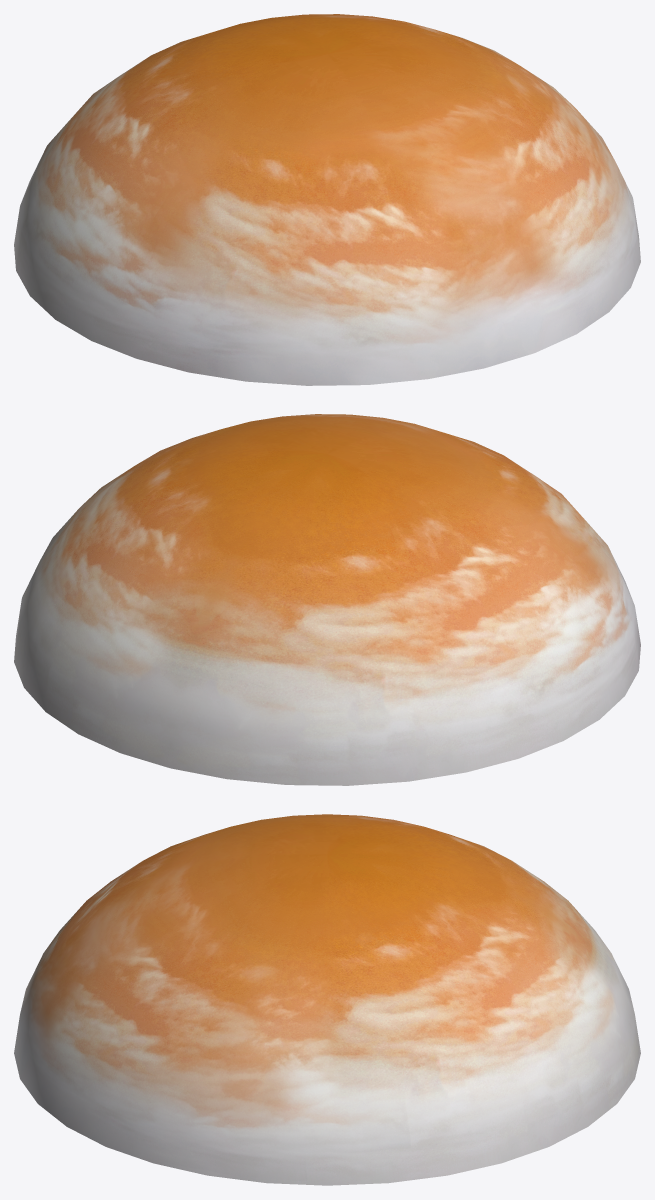
Rendered from Skydome.obj.
The picture shows the model from 3 angles, top to bottom: view 1: azimuth 30°, elevation 25°; view 2: azimuth 150°, elevation 25°; view 3: azimuth 270°, elevation 25°; orthographic projection.
Visible parts, largest first — view 1: skydome; view 2: skydome; view 3: skydome.
Part boxes in pixels (left/top/right/bottom): skydome: left=14, top=14, right=640, bottom=385; skydome: left=14, top=414, right=640, bottom=785; skydome: left=14, top=814, right=640, bottom=1185.
Bounding box in the file's own units: 450 × 157 × 450.
1 material, 1 textured.
